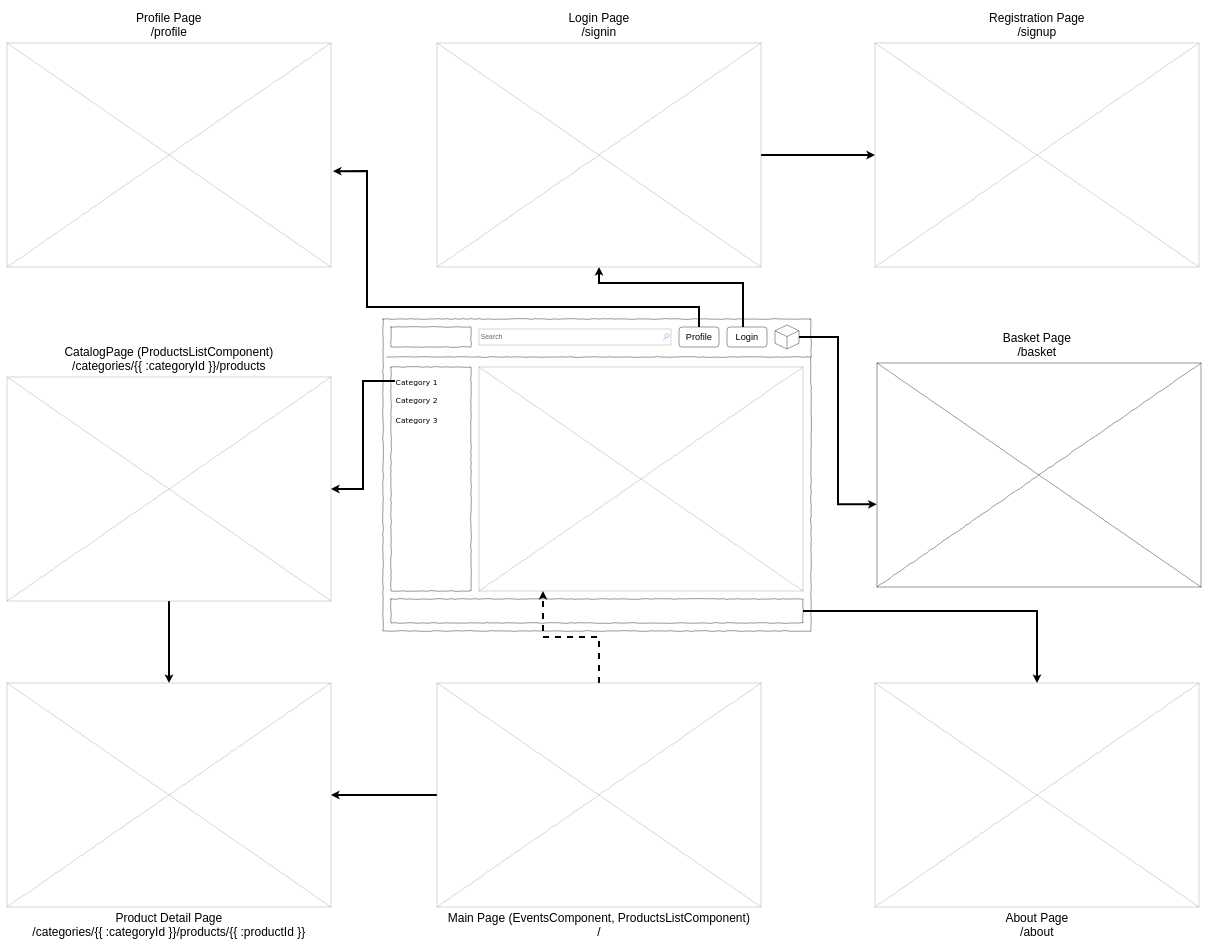
Some shapes in this 1208 by 950 pixel diagram are drawn without their labels. The box of each missing label's shape, as (x1, y1, x2, y2) in pixels:
About Us: (391, 599, 803, 623)
LOGO + Name: (391, 327, 471, 347)
